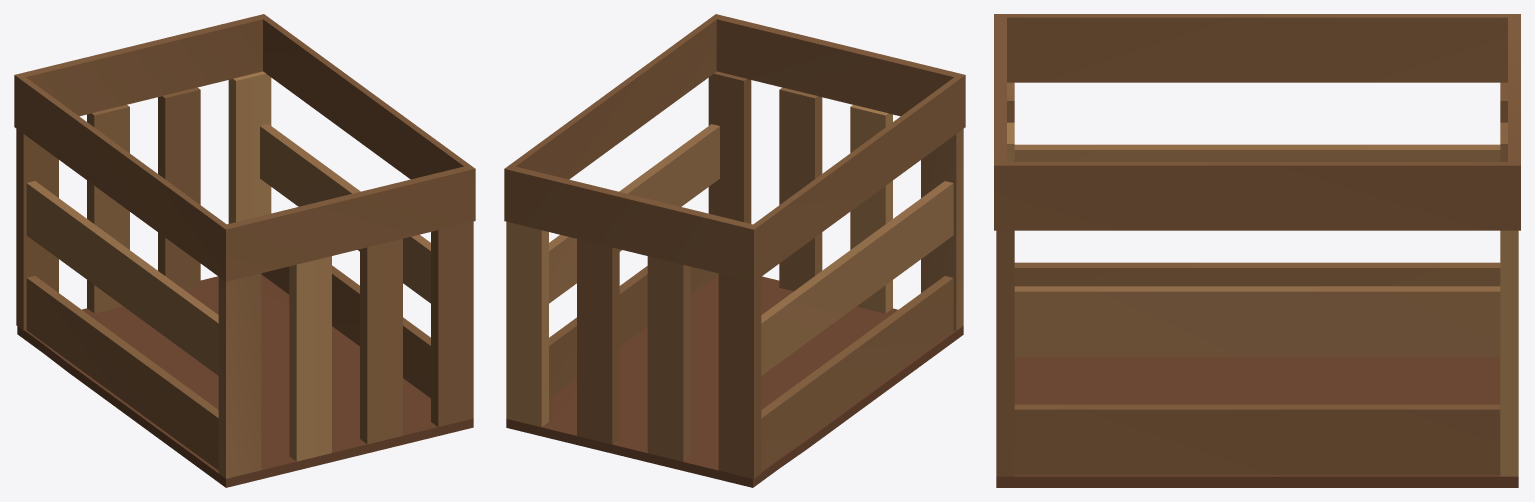
Rendered from Small Light Crate No Lid.fbx.
3 renders of one model, left to right at view 1: azimuth 30°, elevation 25°; view 2: azimuth 150°, elevation 25°; view 3: azimuth 270°, elevation 25°, orthographic. The views are drawn at different scales.
Parts seen in each view (by area): view 1: Small Light Crate No Lid; view 2: Small Light Crate No Lid; view 3: Small Light Crate No Lid.
Boxes of the visible parts, left/top/right/bottom form: Small Light Crate No Lid: left=14, top=14, right=475, bottom=487; Small Light Crate No Lid: left=504, top=14, right=965, bottom=487; Small Light Crate No Lid: left=994, top=14, right=1520, bottom=487.
Bounding box in the file's own units: 138 × 204 × 139.
Materials: 1 (1 with a texture image).
